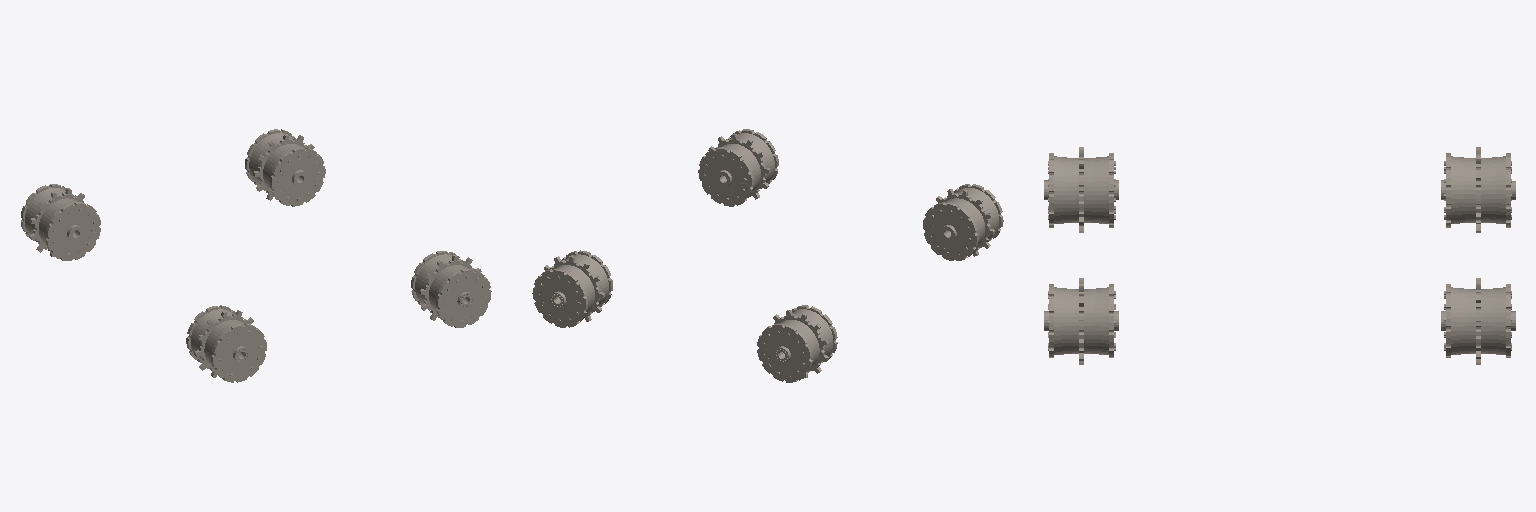
The robot description file, URDF, robot "test5":
<?xml version="1.0" encoding="utf-8"?>
<!-- This URDF was automatically created by SolidWorks to URDF Exporter! Originally created by [author] ([email redacted]) 
     Commit Version: 1.6.0-4-g7f85cfe  Build Version: 1.6.7995.38578
     For more information, please see http://wiki.ros.org/sw_urdf_exporter -->
<robot
  name="test5">
  <link
    name="khung">
    <inertial>
      <origin
        xyz="0.0577628377902291 -3.15754214085138E-05 -0.0404956700228231"
        rpy="0 0 0" />
      <mass
        value="4.53557886714147" />
      <inertia
        ixx="0.00844576250788079"
        ixy="-5.29326694736228E-08"
        ixz="0.000979601261793115"
        iyy="0.0175459541466957"
        iyz="-2.46792303045788E-08"
        izz="0.0230652387996698" />
    </inertial>
    <visual>
      <origin
        xyz="0 0 0"
        rpy="0 0 0" />
      <geometry>
        <mesh
          filename="package://test5/meshes/khung.STL" />
      </geometry>
      <material
        name="">
        <color
          rgba="0.776470588235294 0.756862745098039 0.737254901960784 1" />
      </material>
    </visual>
    <collision>
      <origin
        xyz="0 0 0"
        rpy="0 0 0" />
      <geometry>
        <mesh
          filename="package://test5/meshes/khung.STL" />
      </geometry>
    </collision>
  </link>
  <link
    name="right_front">
    <inertial>
      <origin
        xyz="2.4508E-14 -2.5653E-14 0.015009"
        rpy="0 0 0" />
      <mass
        value="0.11666" />
      <inertia
        ixx="1.2753E-05"
        ixy="8.1438E-22"
        ixz="1.3965E-21"
        iyy="1.2753E-05"
        iyz="-2.1868E-21"
        izz="1.1299E-05" />
    </inertial>
    <visual>
      <origin
        xyz="0 0 0"
        rpy="0 0 0" />
      <geometry>
        <mesh
          filename="package://test5/meshes/right_front.STL" />
      </geometry>
      <material
        name="">
        <color
          rgba="0.65098 0.61961 0.58824 1" />
      </material>
    </visual>
    <collision>
      <origin
        xyz="0 0 0"
        rpy="0 0 0" />
      <geometry>
        <mesh
          filename="package://test5/meshes/right_front.STL" />
      </geometry>
    </collision>
  </link>
  <joint
    name="joint_right_fron"
    type="continuous">
    <origin
      xyz="0.1275 -0.095 -0.0875"
      rpy="-1.5708 0 0" />
    <parent
      link="khung" />
    <child
      link="right_front" />
    <axis
      xyz="0 0 1" />
    <dynamics
      damping="0.1"
      friction="0.1" />
  </joint>
  <link
    name="right_back">
    <inertial>
      <origin
        xyz="5.82867087928207E-15 6.02989880249538E-15 0.0150094084470206"
        rpy="0 0 0" />
      <mass
        value="0.116655502567617" />
      <inertia
        ixx="1.27534919563762E-05"
        ixy="5.89388466268934E-23"
        ixz="2.06553378915748E-22"
        iyy="1.27534919563762E-05"
        iyz="1.29715743309176E-21"
        izz="1.12990296788599E-05" />
    </inertial>
    <visual>
      <origin
        xyz="0 0 0"
        rpy="0 0 0" />
      <geometry>
        <mesh
          filename="package://test5/meshes/right_back.STL" />
      </geometry>
      <material
        name="">
        <color
          rgba="0.650980392156863 0.619607843137255 0.588235294117647 1" />
      </material>
    </visual>
    <collision>
      <origin
        xyz="0 0 0"
        rpy="0 0 0" />
      <geometry>
        <mesh
          filename="package://test5/meshes/right_back.STL" />
      </geometry>
    </collision>
  </link>
  <joint
    name="joint_right_back"
    type="continuous">
    <origin
      xyz="0.0025 -0.095 -0.0875"
      rpy="-1.5708 0 0" />
    <parent
      link="khung" />
    <child
      link="right_back" />
    <axis
      xyz="0 0 1" />
    <dynamics
      damping="0.1"
      friction="0.1" />
  </joint>
  <link
    name="left_front">
    <inertial>
      <origin
        xyz="-3.06837888430778E-14 3.20785065177631E-14 -0.0150094084470206"
        rpy="0 0 0" />
      <mass
        value="0.116655502567617" />
      <inertia
        ixx="1.27534919563762E-05"
        ixy="8.42777310569237E-22"
        ixz="-1.84401597439803E-22"
        iyy="1.27534919563762E-05"
        iyz="5.59292803933684E-21"
        izz="1.12990296788598E-05" />
    </inertial>
    <visual>
      <origin
        xyz="0 0 0"
        rpy="0 0 0" />
      <geometry>
        <mesh
          filename="package://test5/meshes/left_front.STL" />
      </geometry>
      <material
        name="">
        <color
          rgba="0.650980392156863 0.619607843137255 0.588235294117647 1" />
      </material>
    </visual>
    <collision>
      <origin
        xyz="0 0 0"
        rpy="0 0 0" />
      <geometry>
        <mesh
          filename="package://test5/meshes/left_front.STL" />
      </geometry>
    </collision>
  </link>
  <joint
    name="joint_left_front"
    type="continuous">
    <origin
      xyz="0.127499999999969 0.095 -0.087500000000032"
      rpy="1.5707963267949 0 3.14159265358979" />
    <parent
      link="khung" />
    <child
      link="left_front" />
    <axis
      xyz="0 0 1" />
    <limit
      lower="0"
      upper="0"
      effort="0"
      velocity="0" />
    <dynamics
      damping="0.1"
      friction="0.1" />
  </joint>
  <link
    name="left_back">
    <inertial>
      <origin
        xyz="-4.20774526332934E-14 -4.39509539873484E-14 -0.0150094084470207"
        rpy="0 0 0" />
      <mass
        value="0.116655502567617" />
      <inertia
        ixx="1.27534919563762E-05"
        ixy="-8.17599829199721E-23"
        ixz="-4.5094580182196E-21"
        iyy="1.27534919563762E-05"
        iyz="4.31099839786668E-21"
        izz="1.12990296788599E-05" />
    </inertial>
    <visual>
      <origin
        xyz="0 0 0"
        rpy="0 0 0" />
      <geometry>
        <mesh
          filename="package://test5/meshes/left_back.STL" />
      </geometry>
      <material
        name="">
        <color
          rgba="0.650980392156863 0.619607843137255 0.588235294117647 1" />
      </material>
    </visual>
    <collision>
      <origin
        xyz="0 0 0"
        rpy="0 0 0" />
      <geometry>
        <mesh
          filename="package://test5/meshes/left_back.STL" />
      </geometry>
    </collision>
  </link>
  <joint
    name="joint_left_back"
    type="continuous">
    <origin
      xyz="0.00249999999995788 0.095 -0.0874999999999561"
      rpy="1.5707963267949 0 3.14159265358979" />
    <parent
      link="khung" />
    <child
      link="left_back" />
    <axis
      xyz="0 0 1" />
    <limit
      lower="0"
      upper="0"
      effort="0"
      velocity="0" />
    <dynamics
      damping="0.1"
      friction="0.1" />
  </joint>
  <link
    name="link_1">
    <inertial>
      <origin
        xyz="0 3.29597460435593E-17 0.00644835915793761"
        rpy="0 0 0" />
      <mass
        value="0.0346715546726792" />
      <inertia
        ixx="8.14920792292443E-06"
        ixy="0"
        ixz="-3.14050566026151E-22"
        iyy="3.605269856765E-06"
        iyz="-1.66755298040343E-21"
        izz="9.78608502282706E-06" />
    </inertial>
    <visual>
      <origin
        xyz="0 0 0"
        rpy="0 0 0" />
      <geometry>
        <mesh
          filename="package://test5/meshes/link_1.STL" />
      </geometry>
      <material
        name="">
        <color
          rgba="0.2 0.2 0.2 1" />
      </material>
    </visual>
    <collision>
      <origin
        xyz="0 0 0"
        rpy="0 0 0" />
      <geometry>
        <mesh
          filename="package://test5/meshes/link_1.STL" />
      </geometry>
    </collision>
  </link>
  <joint
    name="joint_link_1"
    type="revolute">
    <origin
      xyz="0 0 0"
      rpy="0 0 0.066772" />
    <parent
      link="khung" />
    <child
      link="link_1" />
    <axis
      xyz="0 0 1" />
    <limit
      lower="0"
      upper="0"
      effort="0"
      velocity="0" />
    <dynamics
      damping="0.1"
      friction="0.1" />
  </joint>
  <link
    name="link_2">
    <inertial>
      <origin
        xyz="0.00320285094520032 0.0662561450499644 -0.000214066075646254"
        rpy="0 0 0" />
      <mass
        value="0.703698881624866" />
      <inertia
        ixx="0.000330769991773148"
        ixy="-0.000140118285768749"
        ixz="1.59792128003379E-05"
        iyy="0.000500878090640244"
        iyz="9.36989814502208E-06"
        izz="0.000568656690717836" />
    </inertial>
    <visual>
      <origin
        xyz="0 0 0"
        rpy="0 0 0" />
      <geometry>
        <mesh
          filename="package://test5/meshes/link_2.STL" />
      </geometry>
      <material
        name="">
        <color
          rgba="0.650980392156863 0.619607843137255 0.588235294117647 1" />
      </material>
    </visual>
    <collision>
      <origin
        xyz="0 0 0"
        rpy="0 0 0" />
      <geometry>
        <mesh
          filename="package://test5/meshes/link_2.STL" />
      </geometry>
    </collision>
  </link>
  <joint
    name="joint_link_2"
    type="revolute">
    <origin
      xyz="0 0 0.01"
      rpy="1.5708 0 -0.066772" />
    <parent
      link="link_1" />
    <child
      link="link_2" />
    <axis
      xyz="-0.066723 0 -0.99777" />
    <limit
      lower="0"
      upper="0"
      effort="0"
      velocity="0" />
    <dynamics
      damping="0.1"
      friction="0.1" />
  </joint>
</robot>

--- Render facts (derived) ---
The picture shows the robot from 3 angles, left to right: view 1: azimuth 30°, elevation 25°; view 2: azimuth 150°, elevation 25°; view 3: azimuth 270°, elevation 25°; orthographic projection.
Robot: test5 — 7 links, 6 joints (2 revolute, 4 continuous); root link khung; default pose: all joints at 0.
Visible links, largest first — view 1: right_back, left_front, right_front, left_back; view 2: right_back, left_front, right_front, left_back; view 3: right_back, right_front, left_front, left_back.
Boxes of the visible links, x1=… form: right_back: x1=186, y1=305, x2=266, y2=382; left_front: x1=245, y1=129, x2=325, y2=206; right_front: x1=411, y1=251, x2=491, y2=327; left_back: x1=21, y1=184, x2=100, y2=260; right_back: x1=923, y1=184, x2=1003, y2=260; left_front: x1=532, y1=250, x2=612, y2=327; right_front: x1=698, y1=129, x2=778, y2=206; left_back: x1=757, y1=305, x2=837, y2=382; right_back: x1=1044, y1=147, x2=1118, y2=232; right_front: x1=1044, y1=278, x2=1118, y2=364; left_front: x1=1441, y1=278, x2=1515, y2=364; left_back: x1=1441, y1=147, x2=1515, y2=232.
Size in the robot's own frame: 0.1599 by 0.19 by 0.035 metres.
Meshes: 7 distinct files referenced, 4 mesh visuals loaded (4 binary STL); not drawn: 3 (reference not matched to a file when rendering).